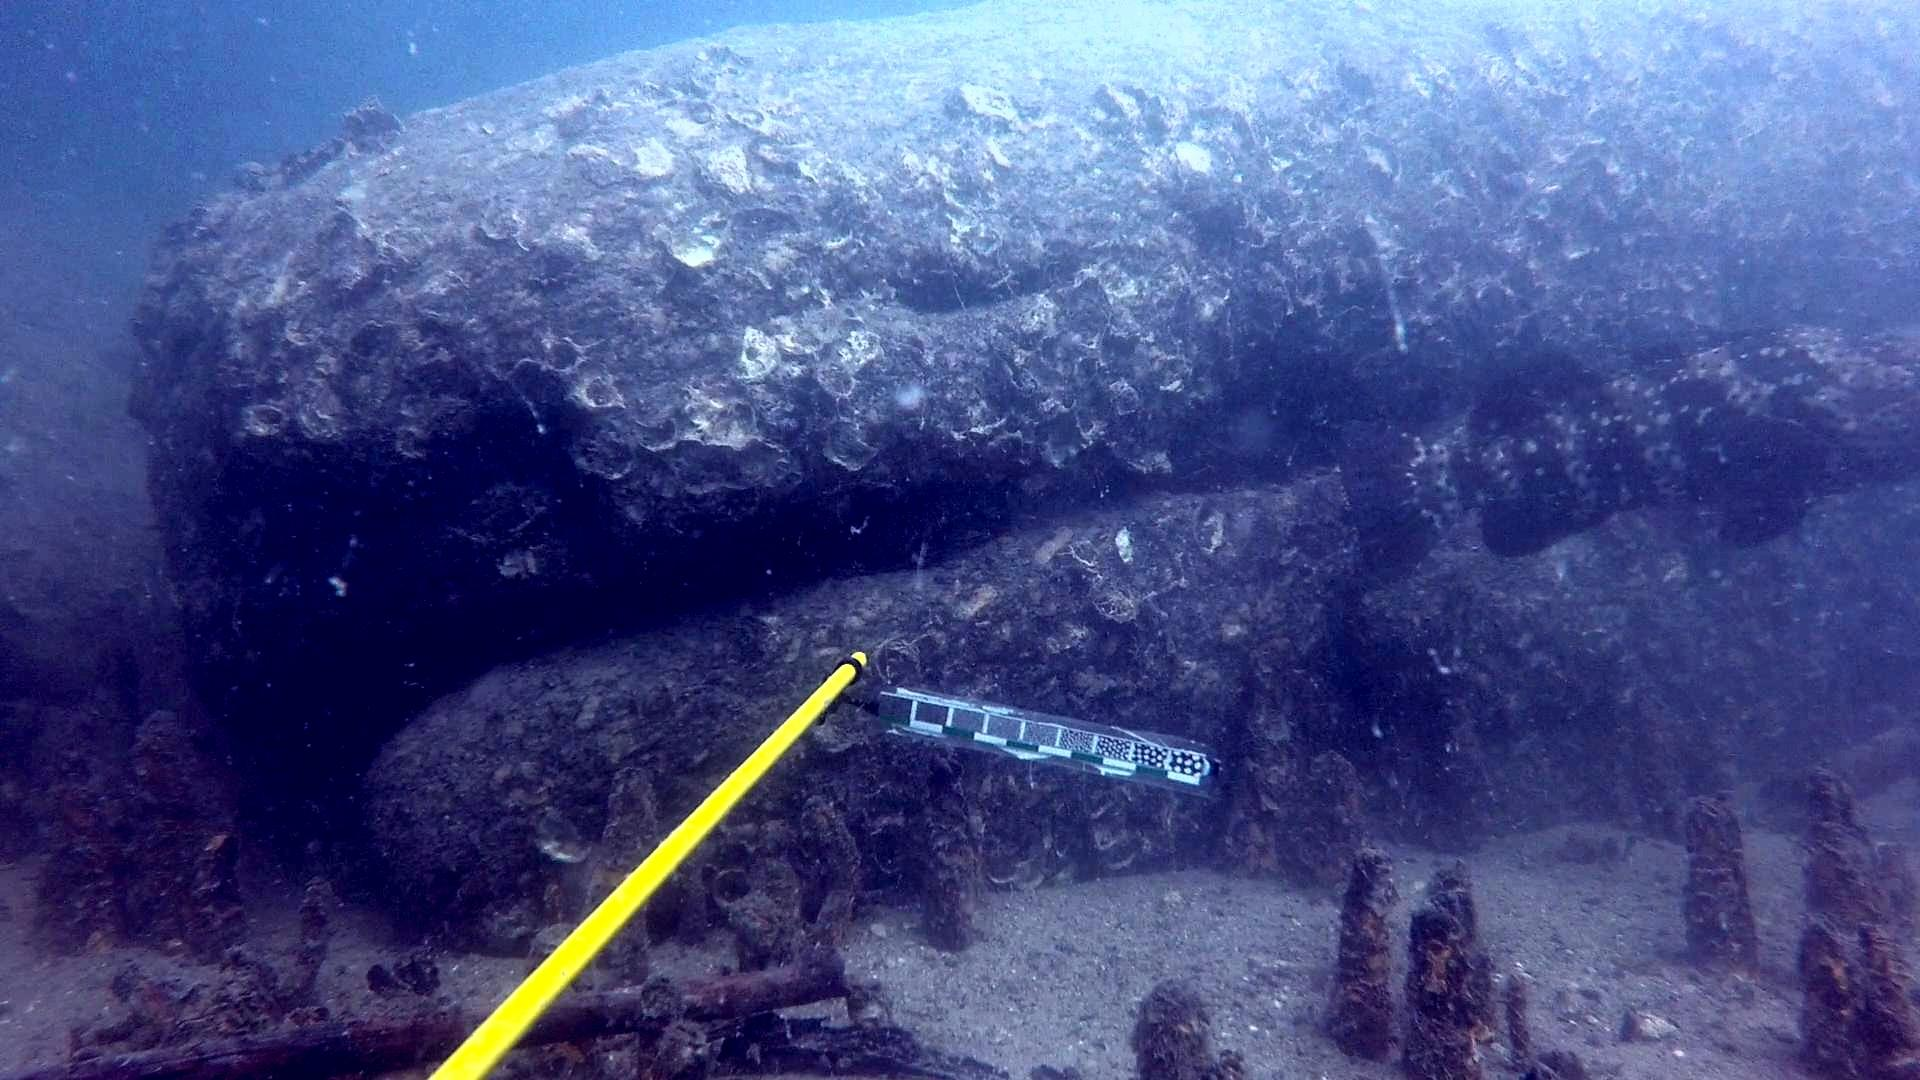epinephelus: (1335, 320, 1920, 590)
